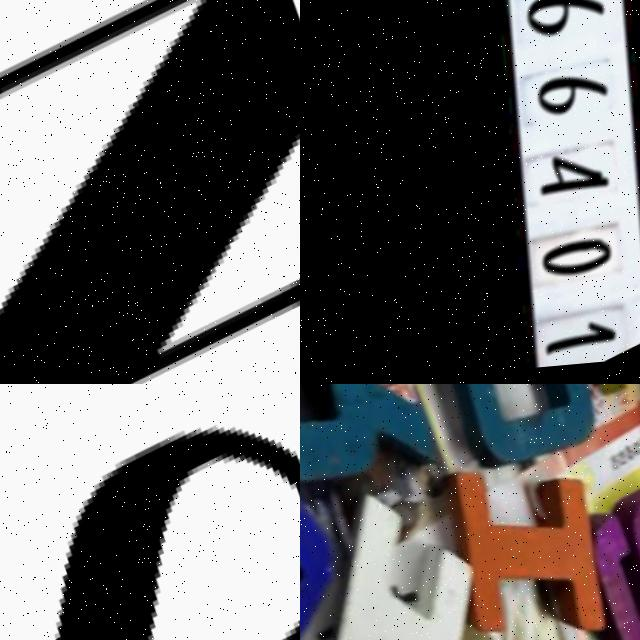0: (530, 208, 640, 312)
1: (535, 286, 640, 374)
4: (523, 121, 640, 228)
6: (525, 43, 636, 144), (510, 0, 634, 67)
D: (424, 384, 623, 492)
H: (300, 470, 549, 640)
I: (430, 444, 640, 640)
K: (300, 384, 469, 533)
N: (0, 0, 300, 384)
S: (0, 384, 300, 640), (571, 478, 640, 640)
